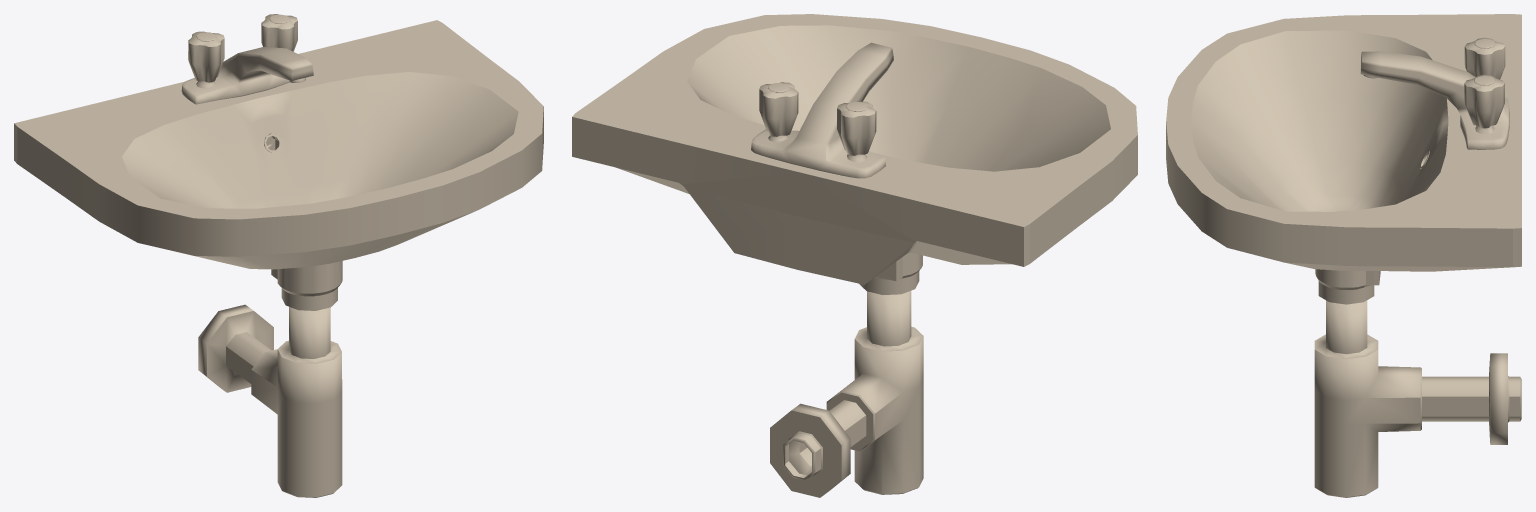
File: washbasin_12_L.fbx
The picture shows the model from 3 angles, left to right: view 1: azimuth 30°, elevation 25°; view 2: azimuth 150°, elevation 25°; view 3: azimuth 270°, elevation 25°; orthographic projection. The views are drawn at different scales.
Visible parts, largest first — view 1: washbasin_12_L; view 2: washbasin_12_L; view 3: washbasin_12_L.
Part boxes in pixels (bbox=[...]): washbasin_12_L: bbox=[14, 14, 543, 497]; washbasin_12_L: bbox=[572, 14, 1137, 497]; washbasin_12_L: bbox=[1166, 14, 1521, 497].
Bounding box in the file's own units: 12.97 × 12.05 × 9.09.
